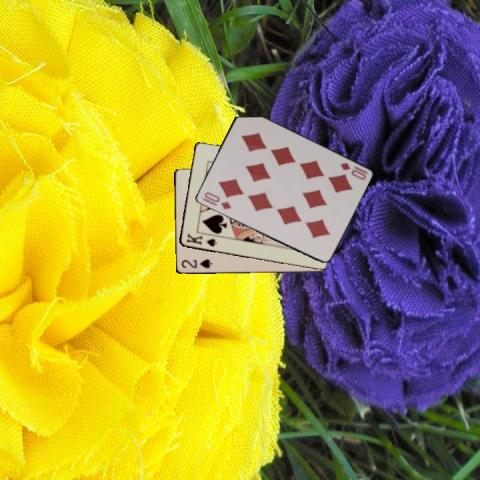10d: (337, 160, 369, 182), (201, 189, 232, 210)
2s: (179, 257, 213, 269)
Ks: (183, 231, 218, 248)
